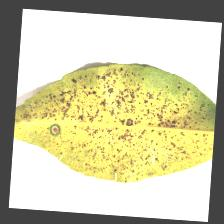canker: (65, 88, 171, 156)
